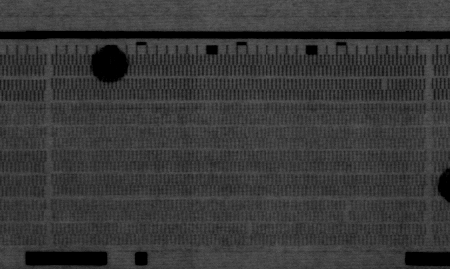Broken hole: (242, 221, 254, 246), (341, 201, 354, 223), (379, 78, 390, 91)
